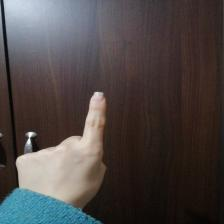one: (18, 90, 121, 203)
